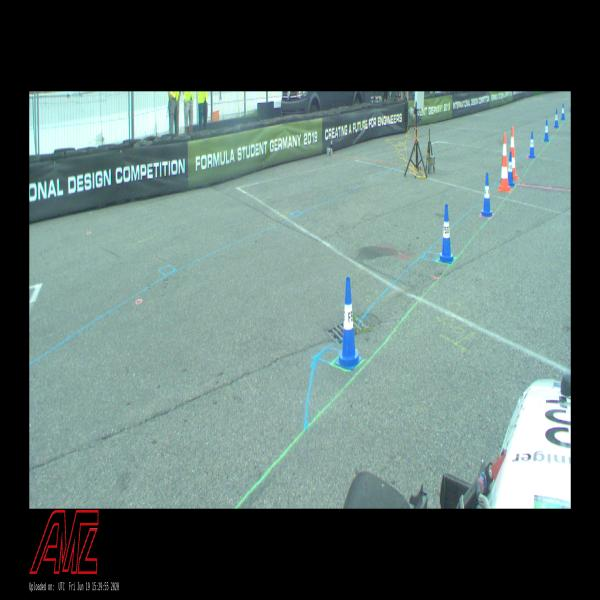blue_cone: (336, 277, 362, 369), (438, 204, 454, 264), (480, 173, 492, 217), (508, 152, 515, 186), (528, 132, 535, 158), (544, 120, 549, 142), (554, 109, 559, 128), (561, 104, 565, 120)
large_orange_cone: (498, 133, 510, 192), (510, 127, 518, 180)
